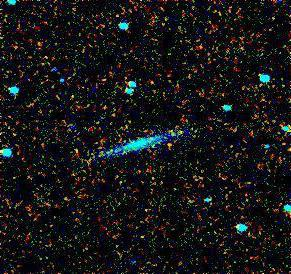star: (155, 131, 185, 161)
